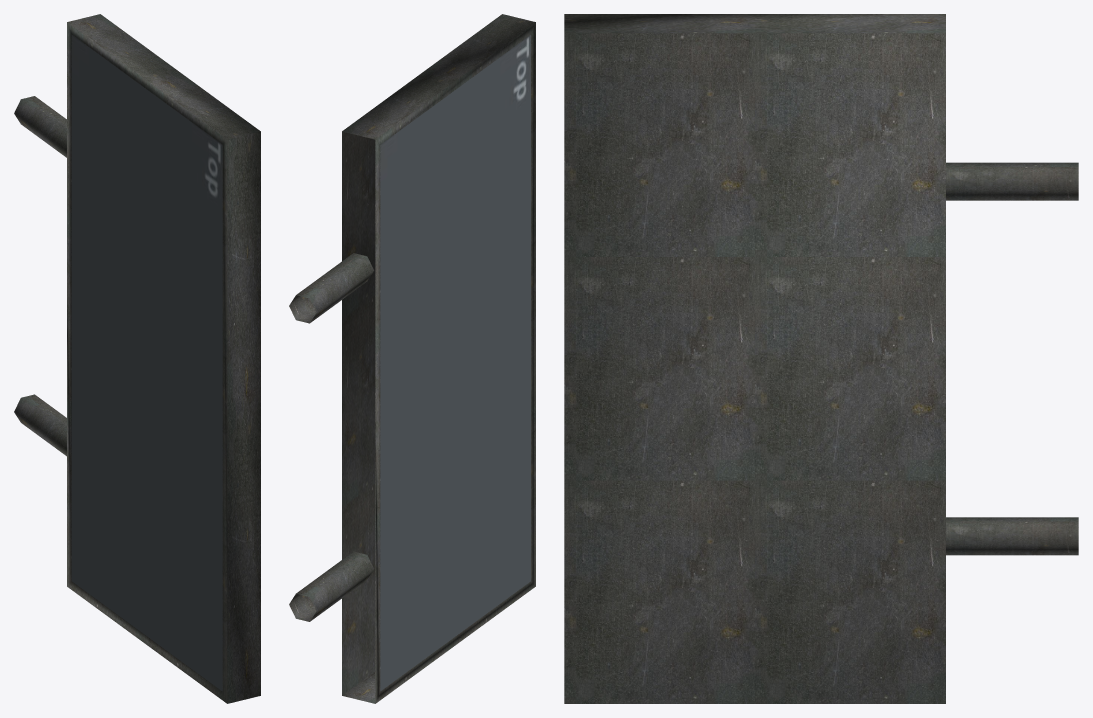
The model's file is billboard2.obj.
3 renders of one model, left to right at view 1: azimuth 30°, elevation 25°; view 2: azimuth 150°, elevation 25°; view 3: azimuth 270°, elevation 25°, orthographic. The views are drawn at different scales.
Visible parts, largest first — view 1: Material__35, Metal_Steel; view 2: Material__35, Metal_Steel; view 3: Material__35, Metal_Steel.
Part boxes in pixels (x1=…): Material__35: x1=67, y1=14, x2=260, y2=703; Metal_Steel: x1=14, y1=96, x2=66, y2=456; Material__35: x1=342, y1=14, x2=535, y2=703; Metal_Steel: x1=289, y1=253, x2=373, y2=621; Material__35: x1=564, y1=14, x2=945, y2=703; Metal_Steel: x1=946, y1=162, x2=1078, y2=555.
Size of the model in its own units: 0.2119 by 3.4 by 2.36.
2 materials, 2 textured.
